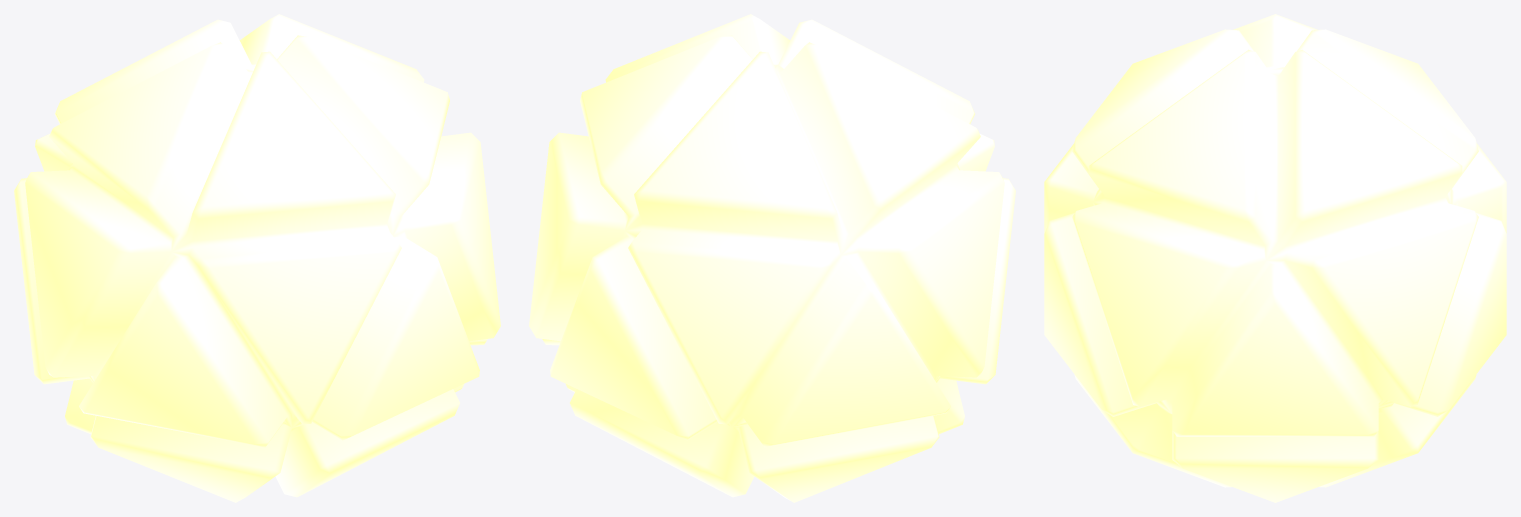
The model's file is DosisMaxima.fbx.
The picture shows the model from 3 angles, left to right: view 1: azimuth 30°, elevation 25°; view 2: azimuth 150°, elevation 25°; view 3: azimuth 270°, elevation 25°; orthographic projection.
Parts seen in each view (by area): view 1: DosisMaxima; view 2: DosisMaxima; view 3: DosisMaxima.
Boxes of the visible parts, box(x1,y1,x2,y2) form: DosisMaxima: box(14, 14, 500, 502); DosisMaxima: box(529, 14, 1015, 502); DosisMaxima: box(1044, 14, 1506, 502).
Bounding box in the file's own units: 166 × 168 × 158.
